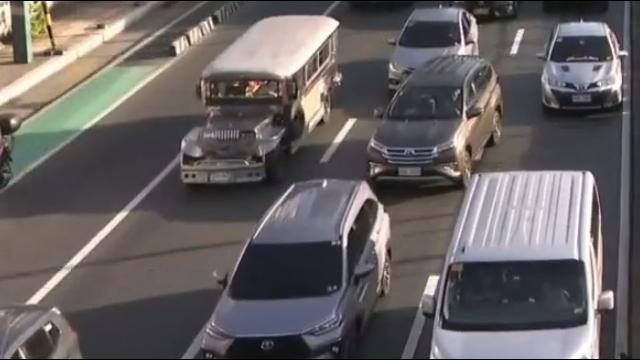car: (162, 161, 407, 360), (364, 58, 502, 185), (533, 14, 631, 117), (381, 7, 494, 86)
jeepney: (159, 1, 361, 191)
van: (416, 142, 615, 360)
